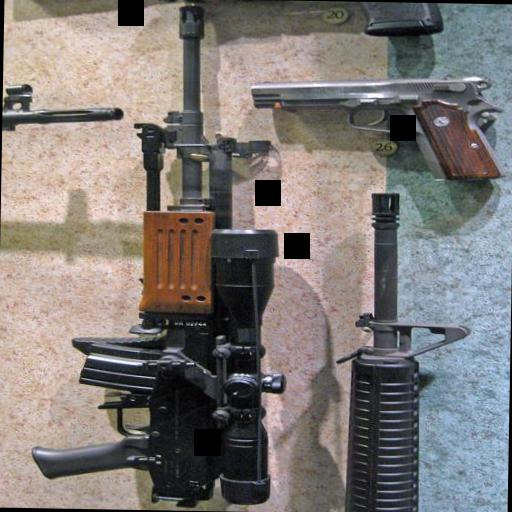Handgun: (238, 64, 508, 182)
